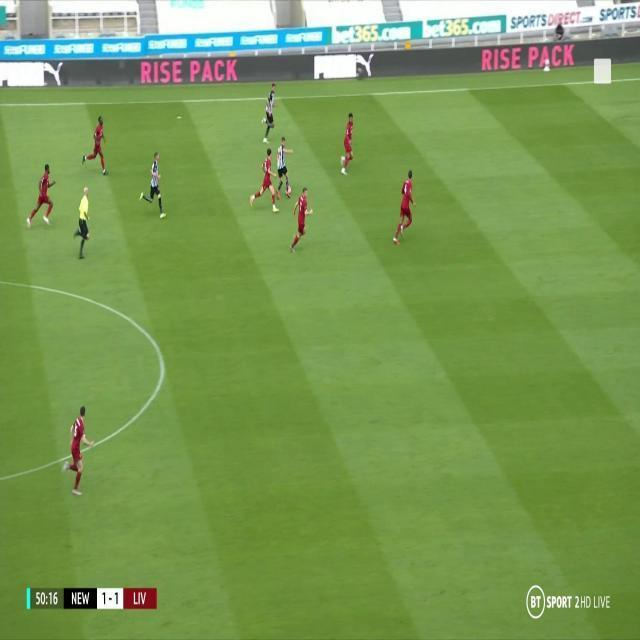ball: (285, 177, 293, 202)
player: (63, 403, 94, 499), (27, 162, 56, 232), (250, 143, 278, 214), (393, 170, 418, 246), (82, 115, 110, 177), (141, 150, 166, 218), (289, 186, 312, 256), (274, 133, 294, 201), (261, 81, 279, 145), (341, 110, 356, 180)
referee: (73, 184, 91, 265)
